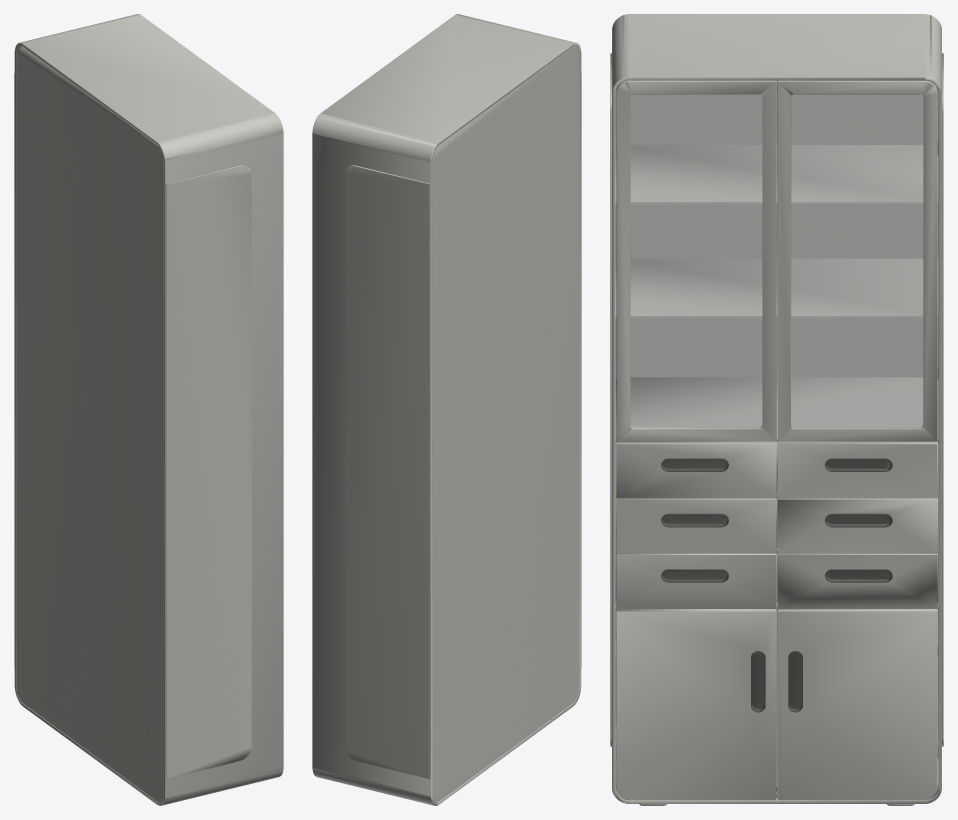
The model's file is cabinet_file_a01.glb.
3 renders of one model, left to right at view 1: azimuth 30°, elevation 25°; view 2: azimuth 150°, elevation 25°; view 3: azimuth 270°, elevation 25°, orthographic. The views are drawn at different scales.
Parts seen in each view (by area): view 1: body_01_mesh_00; view 2: body_01_mesh_00; view 3: body_01_mesh_00, glass_01_mesh_00, door_01_mesh_00.
Part boxes in pixels (box(x1,y1,x2,y2)): body_01_mesh_00: box(14, 14, 283, 805); body_01_mesh_00: box(312, 14, 581, 805); body_01_mesh_00: box(610, 14, 943, 805); glass_01_mesh_00: box(630, 94, 923, 427); door_01_mesh_00: box(661, 458, 892, 712).
Bounding box in the file's own units: 0.3747 × 2 × 0.8259.
Materials: 4 (3 with a texture image).
